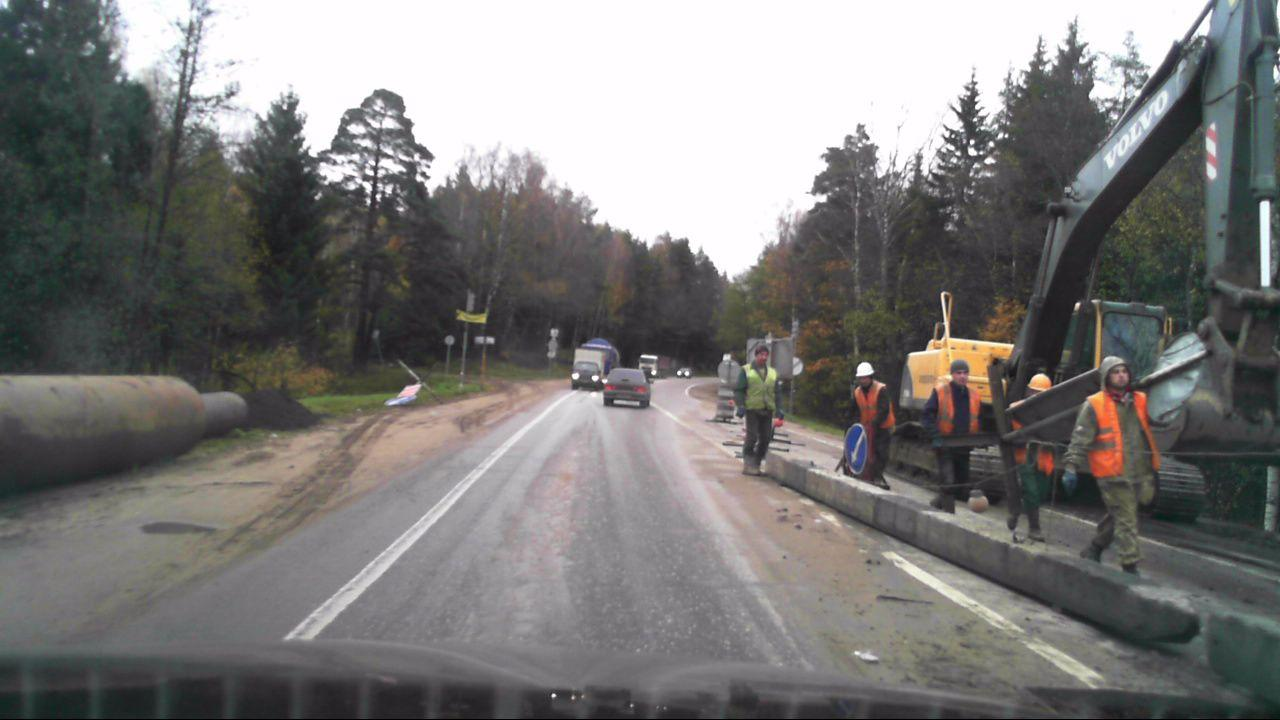4_2_2: (843, 422, 868, 476)
